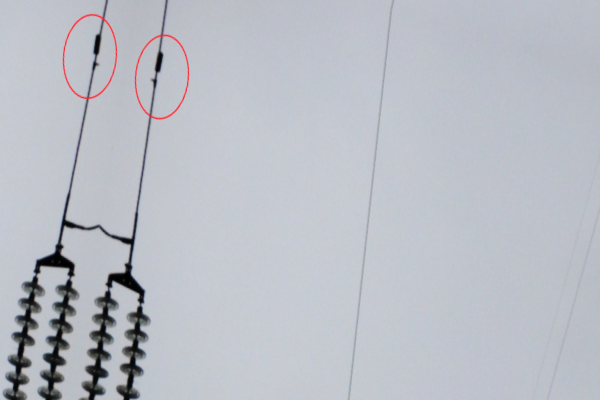damper_defect: (148, 49, 164, 91), (89, 31, 102, 73)
